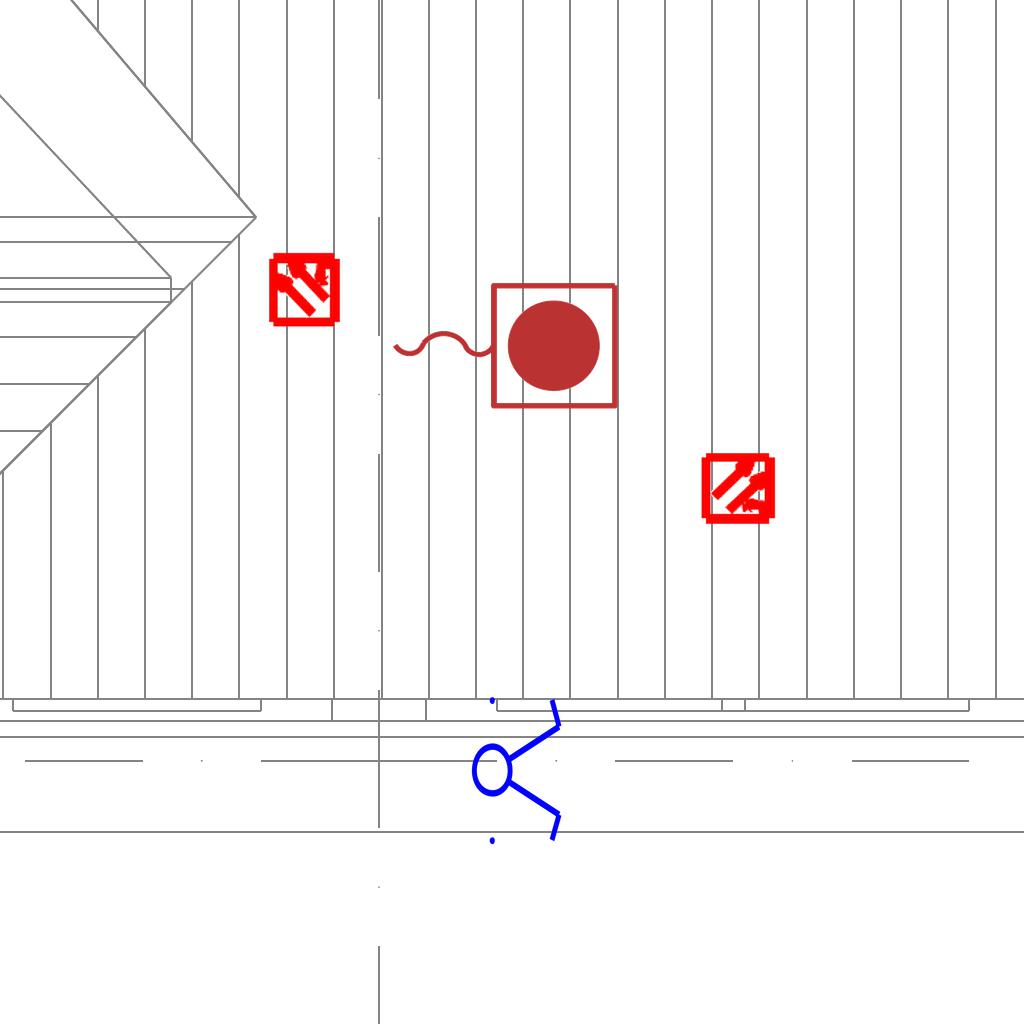OT_Multisensormelder_(Kombination_RMO_WMD): (248, 231, 361, 344), (684, 432, 797, 545)
Serienschalter: (470, 685, 566, 853)
Zugtaster: (382, 272, 626, 416)
